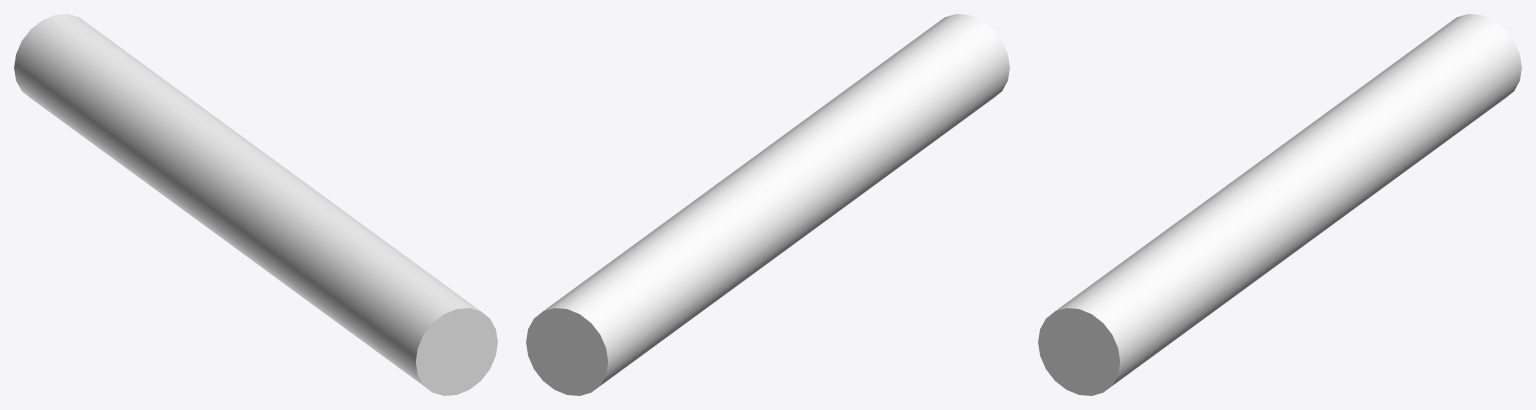
Rendered from gizmoScaleZ.fbx.
The picture shows the model from 3 angles, left to right: view 1: azimuth 30°, elevation 25°; view 2: azimuth 150°, elevation 25°; view 3: azimuth 330°, elevation 25°; orthographic projection.
Visible parts, largest first — view 1: gizmoScaleZ; view 2: gizmoScaleZ; view 3: gizmoScaleZ.
Boxes of the visible parts, x1,y1,x2,y2 form: gizmoScaleZ: (14,14,497,395); gizmoScaleZ: (526,14,1009,395); gizmoScaleZ: (1038,14,1521,395).
Size of the model in its own units: 3.6 by 3.6 by 30.49.
1 material, 1 textured.
